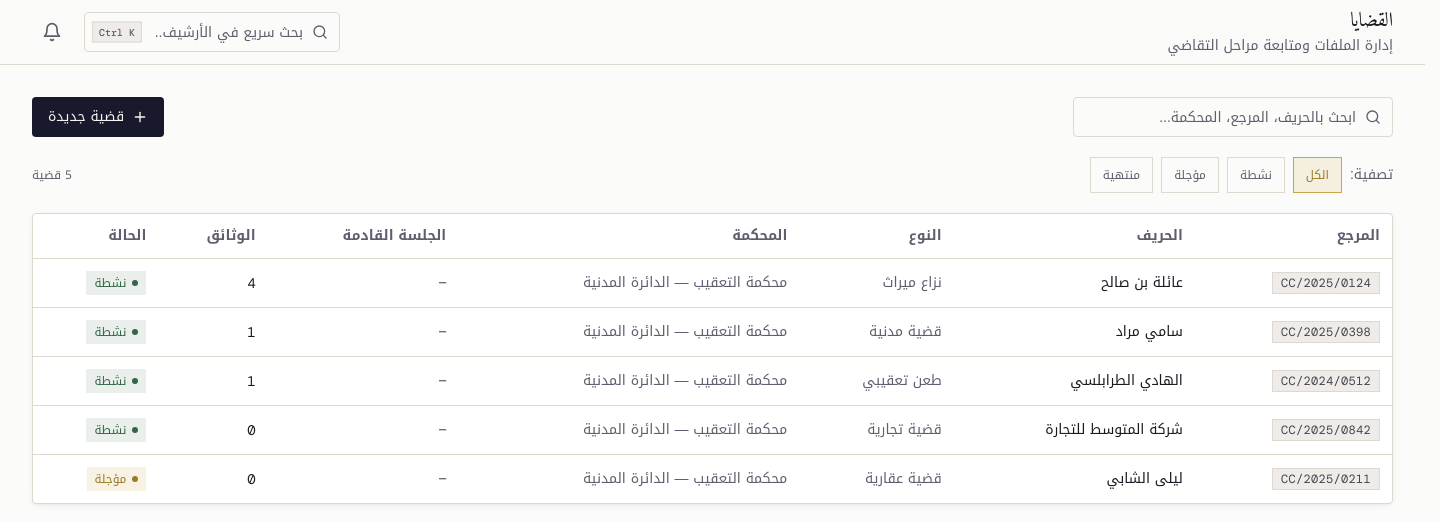
Test: Cases page › filters cases by status on the server
The width and height of the screenshot is (1440, 522).
Expected: the text "عائلة بن صالح" is shown, left=954, top=258, right=1195, bottom=307
Click the button "مؤجلة": (1190, 175) left=1161, top=157, right=1219, bottom=193
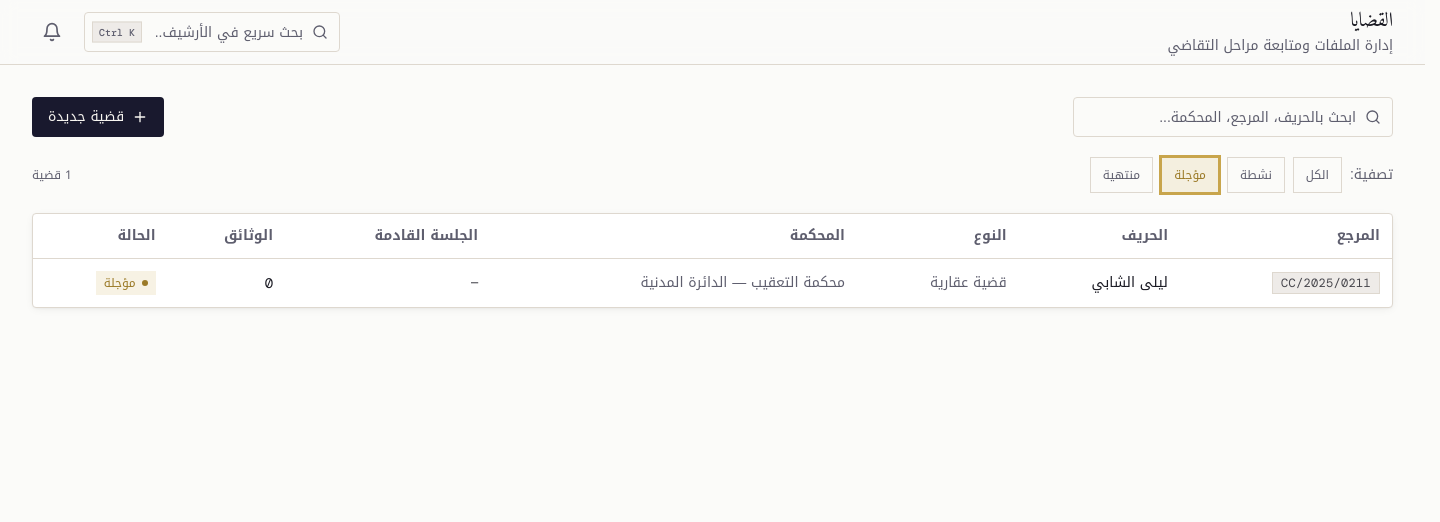
Expected: the text "ليلى الشابي" is shown, left=1019, top=258, right=1180, bottom=306
Result: the text "عائلة بن صالح" is gone
Result: the text "1 قضية" is shown at left=32, top=167, right=72, bottom=183
